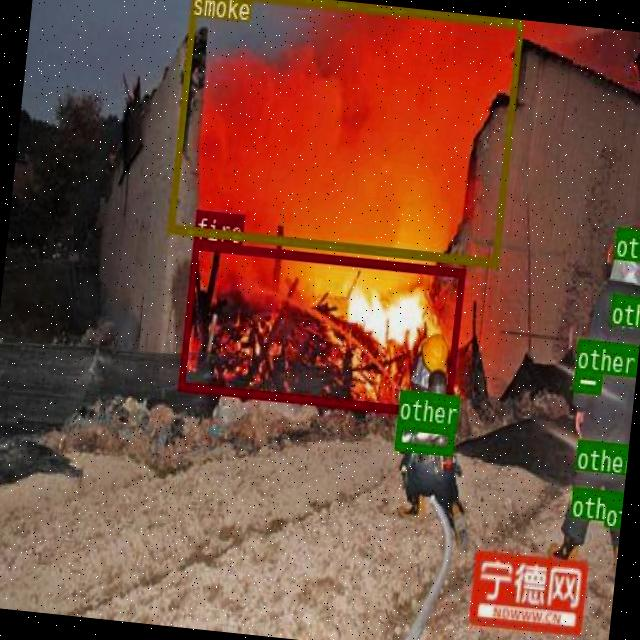fire: (177, 240, 463, 416)
smoke: (167, 0, 522, 264)
